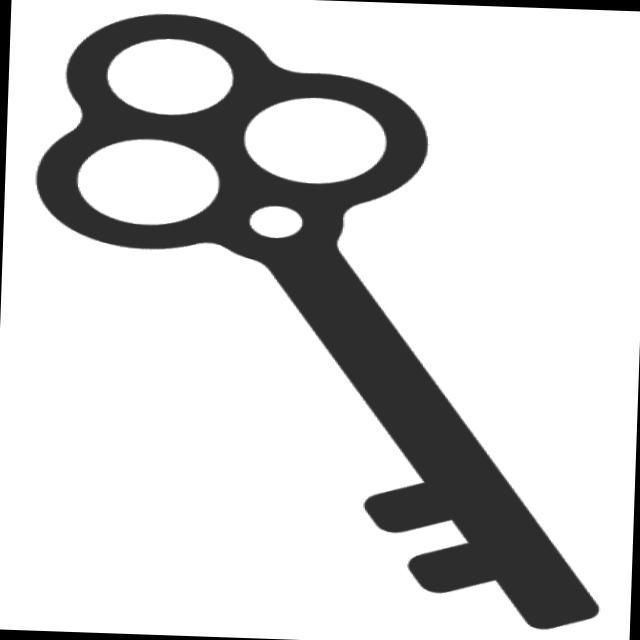key: (9, 7, 630, 640)
